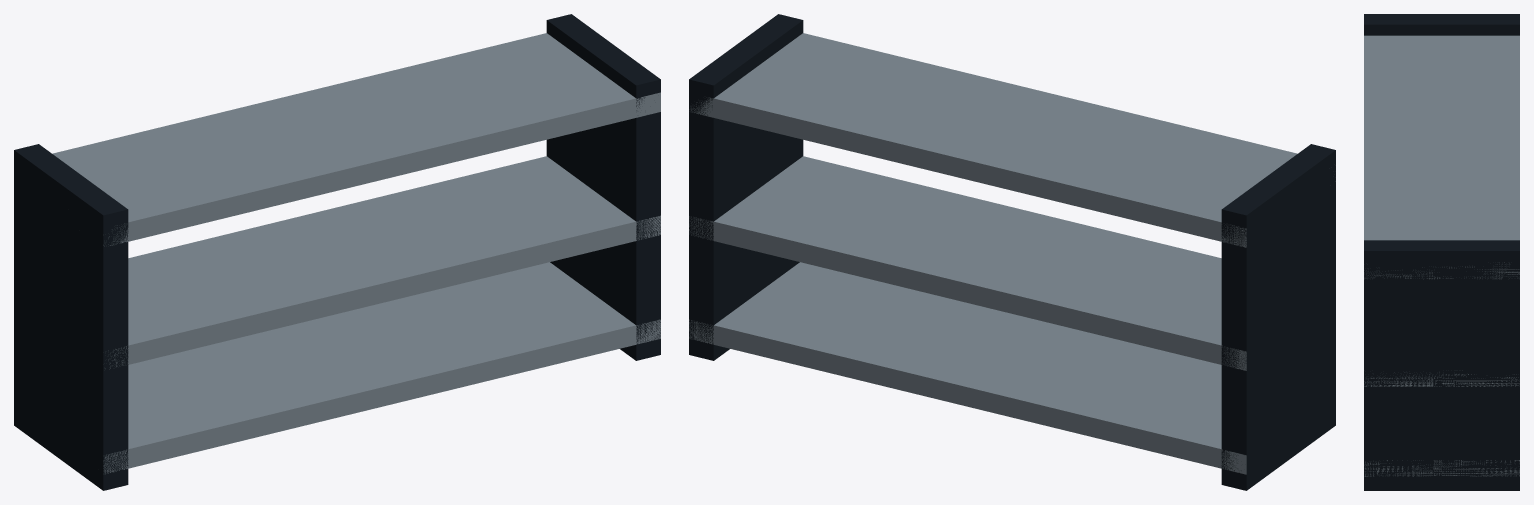
File: np_z03_medical_rayonnage.glb
The picture shows the model from 3 angles, left to right: view 1: azimuth 30°, elevation 25°; view 2: azimuth 150°, elevation 25°; view 3: azimuth 270°, elevation 25°; orthographic projection. The views are drawn at different scales.
Visible parts, largest first — view 1: _MeshInstance3D_3, _MeshInstance3D_2, Plateau, MontantGauche, MontantDroit; view 2: _MeshInstance3D_3, _MeshInstance3D_2, Plateau, MontantGauche, MontantDroit; view 3: MontantDroit, _MeshInstance3D_3, MontantGauche, Plateau, _MeshInstance3D_2.
Boxes of the visible parts, left/top/right/bottom form: _MeshInstance3D_3: left=52, top=33, right=660, bottom=246; _MeshInstance3D_2: left=105, top=156, right=660, bottom=369; Plateau: left=103, top=262, right=660, bottom=474; MontantGauche: left=14, top=144, right=128, bottom=490; MontantDroit: left=546, top=14, right=660, bottom=360; _MeshInstance3D_3: left=689, top=33, right=1335, bottom=247; _MeshInstance3D_2: left=689, top=156, right=1246, bottom=370; Plateau: left=689, top=262, right=1246, bottom=474; MontantGauche: left=1221, top=144, right=1335, bottom=490; MontantDroit: left=689, top=14, right=803, bottom=360; MontantDroit: left=1364, top=240, right=1519, bottom=490; _MeshInstance3D_3: left=1364, top=35, right=1519, bottom=279; MontantGauche: left=1364, top=14, right=1519, bottom=35; Plateau: left=1364, top=460, right=1519, bottom=476; _MeshInstance3D_2: left=1364, top=370, right=1519, bottom=386.
Bounding box in the file's own units: 1.8 × 0.85 × 0.5.
